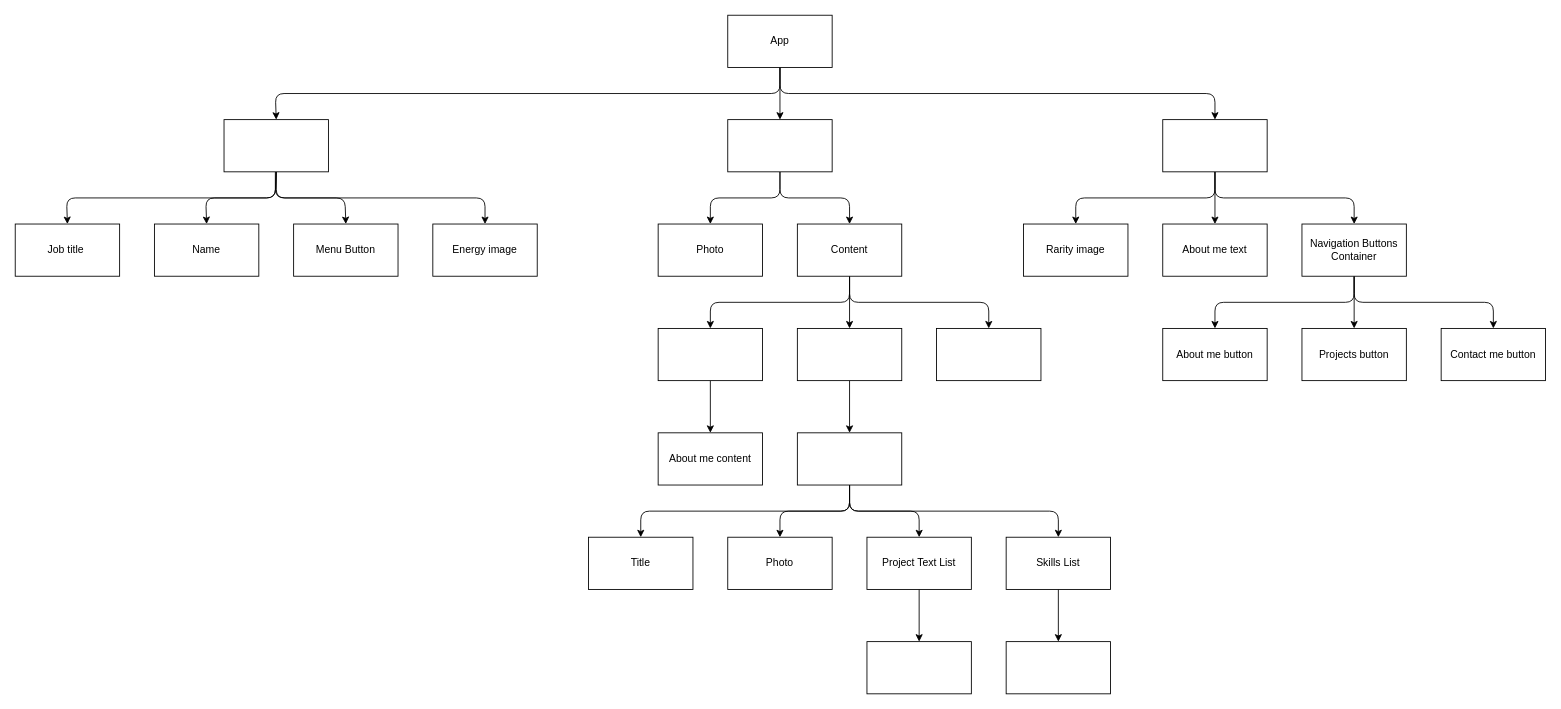
This 1561x709 diagram has some shape labels left out. Each missing label, with the box of its shape:
About me page: (657, 328, 763, 381)
Contact me page: (936, 328, 1041, 381)
Description, Learnt, Changes, Inspiration, Future: (866, 641, 971, 694)
Footer: (1162, 119, 1267, 172)
Header: (223, 119, 328, 172)
Main: (727, 119, 832, 172)
Projects List: (796, 432, 902, 485)
Projects page: (796, 328, 902, 381)
Skills: (1005, 641, 1111, 694)
